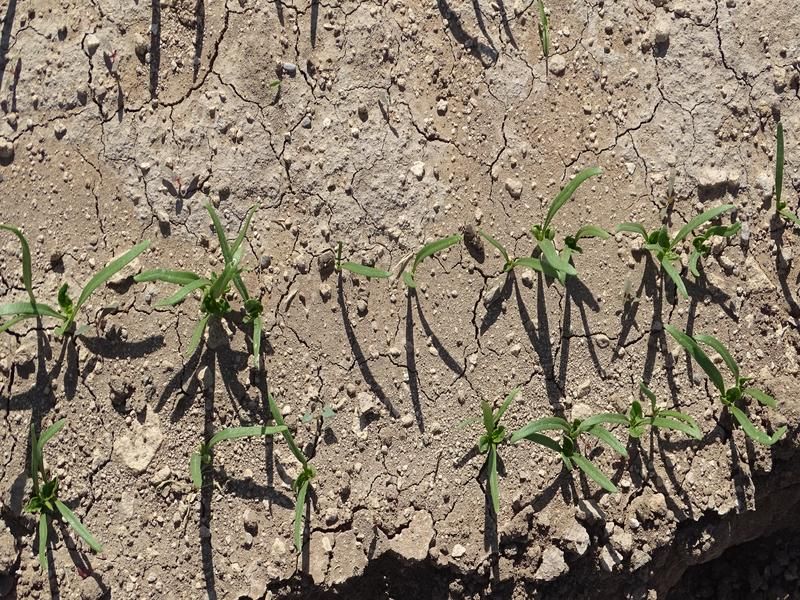Espinaca: (479, 325, 783, 507), (178, 397, 331, 565), (1, 228, 133, 381), (142, 225, 266, 372), (489, 166, 610, 291), (14, 409, 101, 559), (618, 199, 748, 290), (343, 230, 454, 293)
